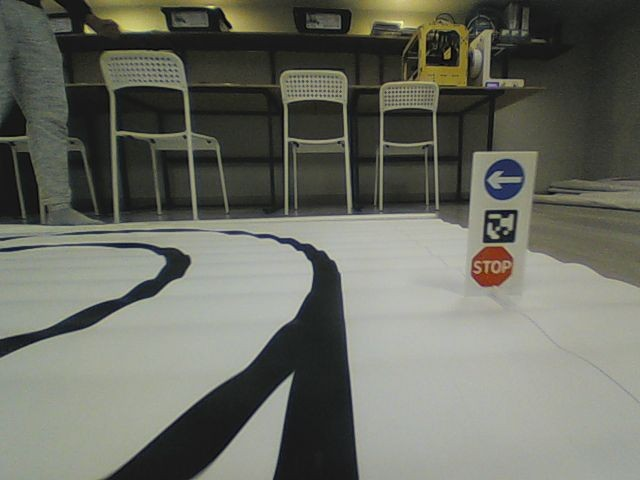Stop: (468, 245, 515, 288)
